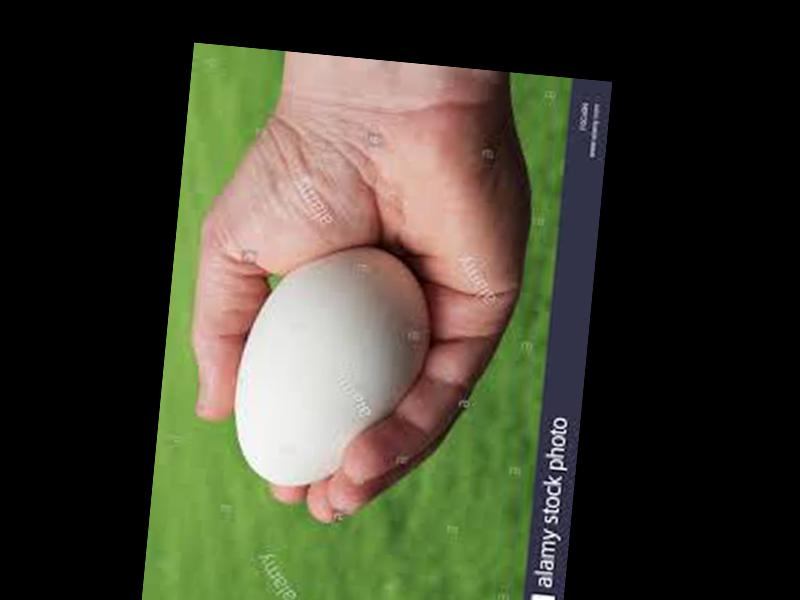Eggs: (225, 232, 438, 496)
